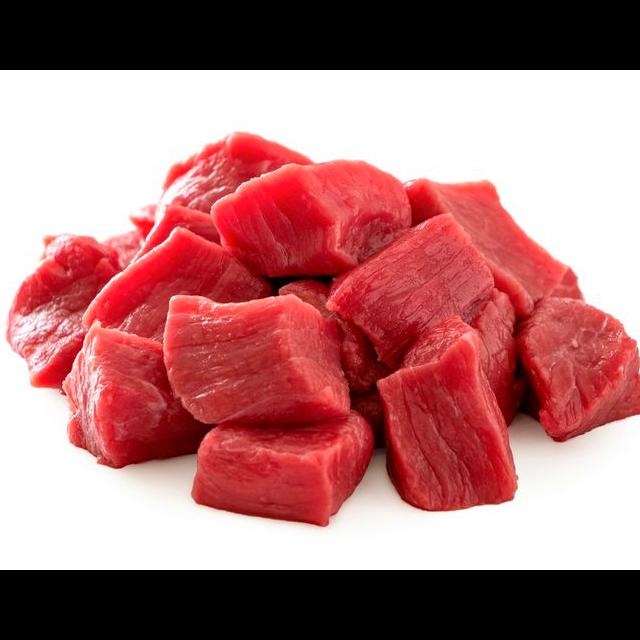beef: (394, 129, 609, 360), (350, 324, 538, 523), (151, 279, 357, 428), (45, 305, 188, 483), (210, 158, 414, 281), (0, 218, 142, 381), (505, 300, 640, 451)
